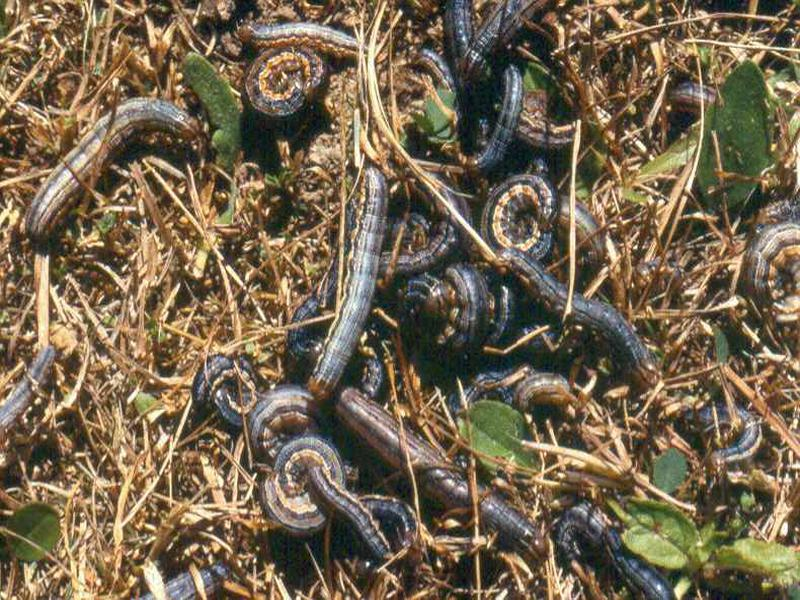Armyworms: (380, 414, 667, 584), (387, 192, 627, 368), (17, 99, 234, 256), (198, 361, 363, 530), (231, 19, 364, 131)
